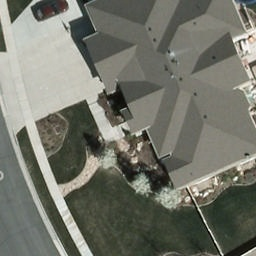car: (31, 0, 70, 23)
